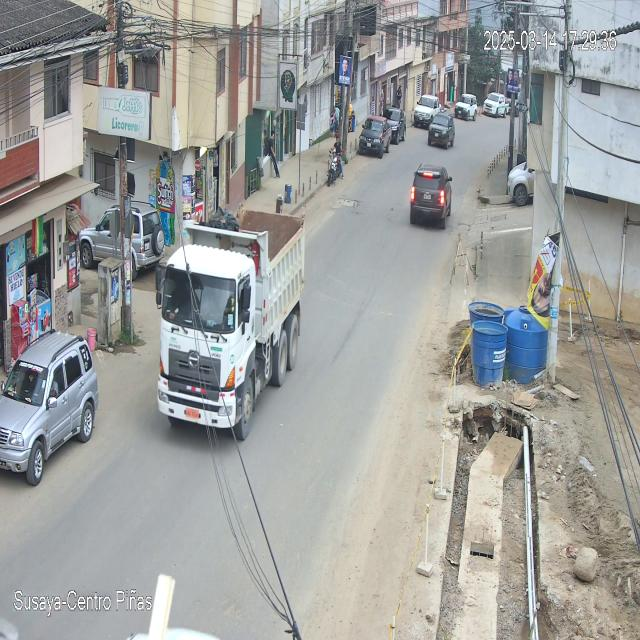TRUCK: (156, 210, 305, 442)
